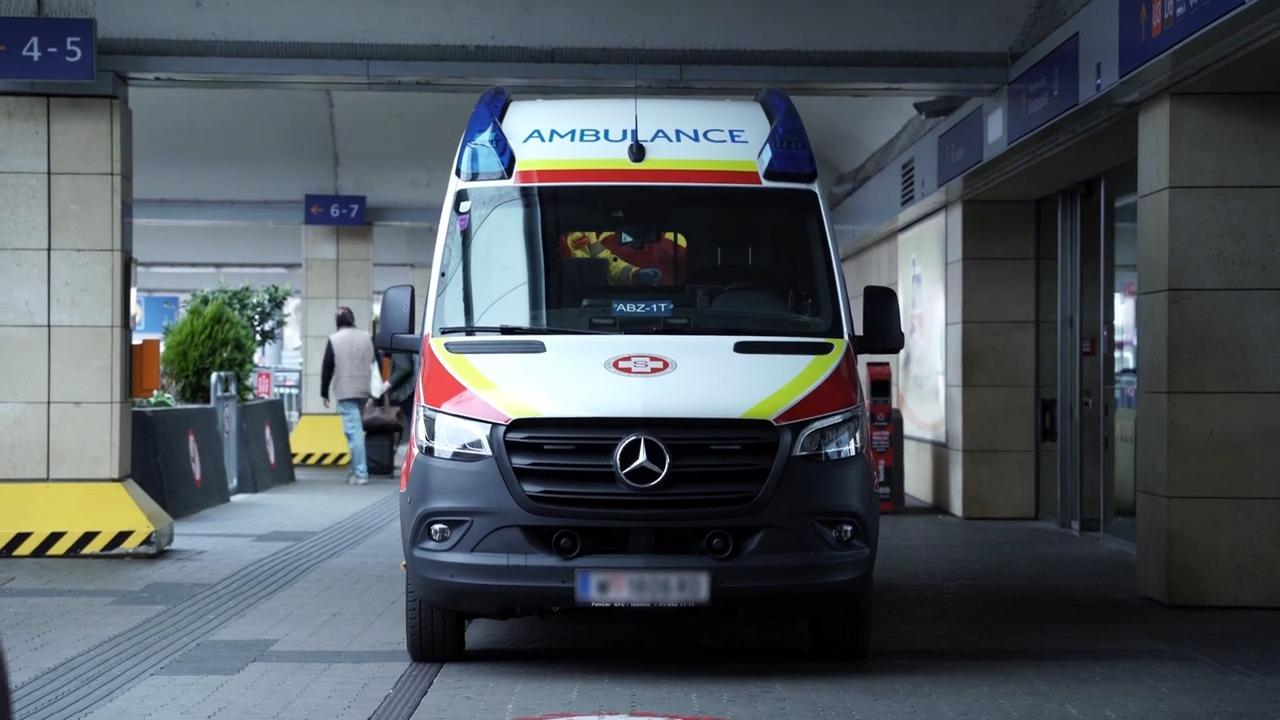car: (377, 82, 903, 664)
